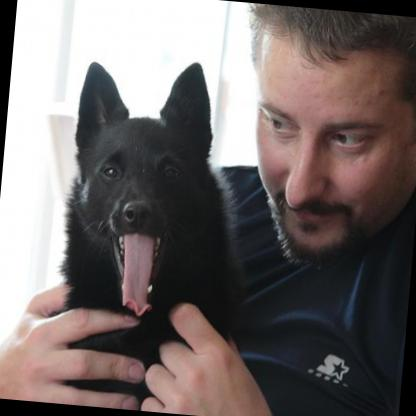schipperke: (53, 49, 252, 400)
